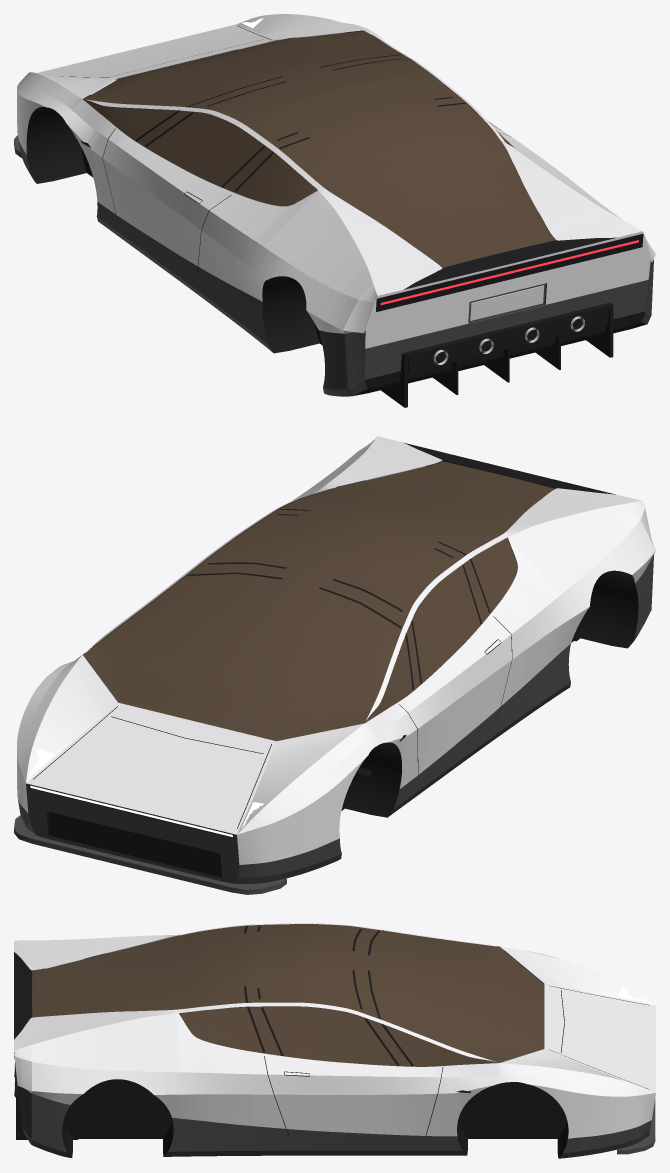
The model's file is car.glb.
3 views of the same model, one above another, from view 1: azimuth 30°, elevation 25°; view 2: azimuth 150°, elevation 25°; view 3: azimuth 270°, elevation 25° (orthographic). The views are drawn at different scales.
Visible parts, largest first — view 1: body, glass; view 2: body, glass; view 3: body, glass.
Boxes of the visible parts, bbox=[...] form: body: bbox=[14, 14, 655, 407]; glass: bbox=[83, 31, 555, 267]; body: bbox=[14, 436, 655, 894]; glass: bbox=[83, 461, 554, 741]; body: bbox=[14, 923, 655, 1158]; glass: bbox=[32, 924, 543, 1066].
Size of the model in its own units: 2.28 by 1.25 by 4.6.
